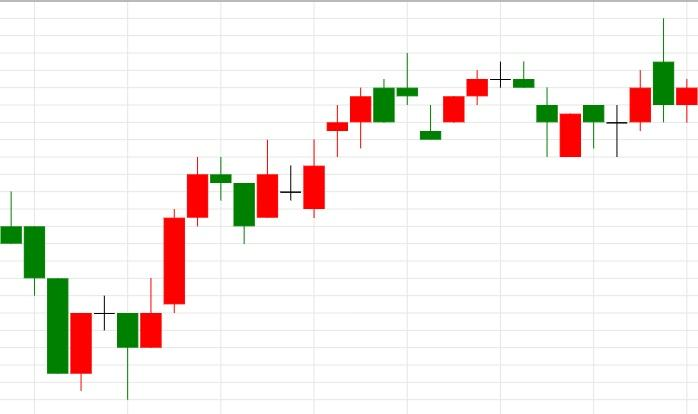evening_star_fall: (69, 157, 256, 401), (419, 61, 535, 140)
